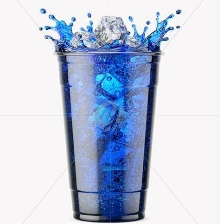glass: (44, 40, 172, 224)
